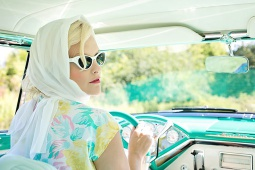female: (46, 21, 107, 101)
